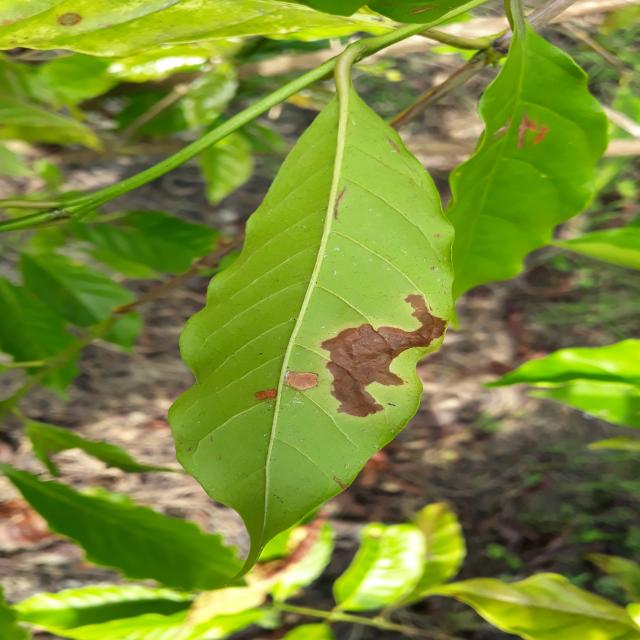Plaga-AranaRoja: (166, 49, 457, 560)
